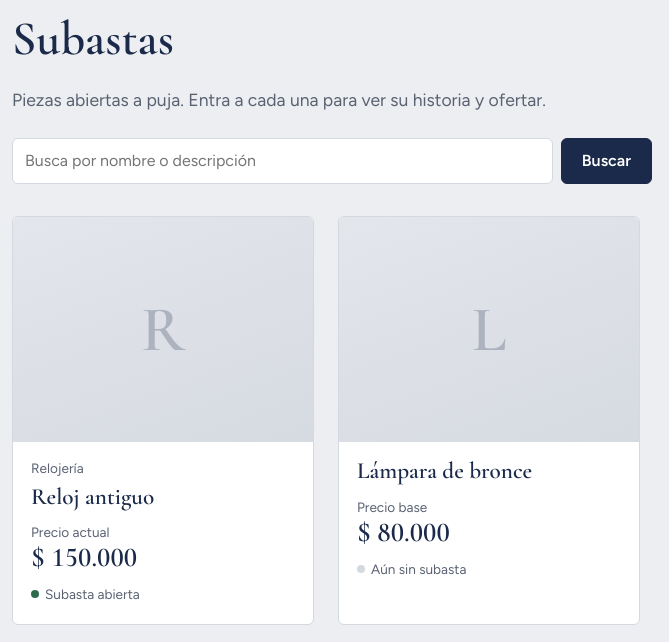
Test: ListadoPage › busca por el texto escrito
Expected: the link "Lámpara de bronce" is shown, [357, 457, 532, 485]
Type "  reloj " into the search field named "Buscar artículos" at (282, 161), box [12, 138, 553, 184]
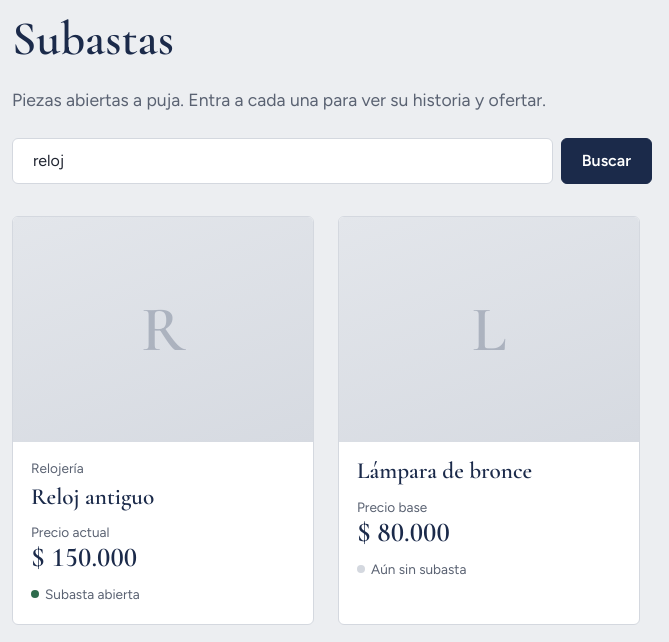
Click the button "Buscar" at (606, 161), box [561, 138, 652, 184]
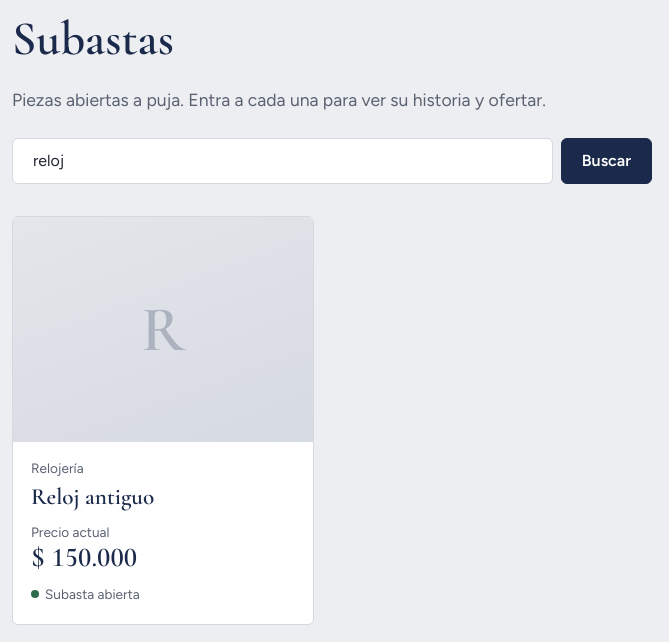
Expected: the link "Reloj antiguo" is shown, [31, 482, 154, 510]
Now the link "Lámpara de bronce" is gone
